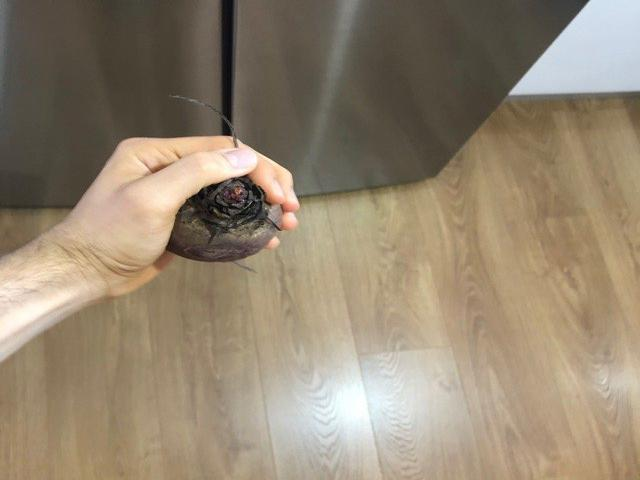beet: (165, 94, 283, 262)
